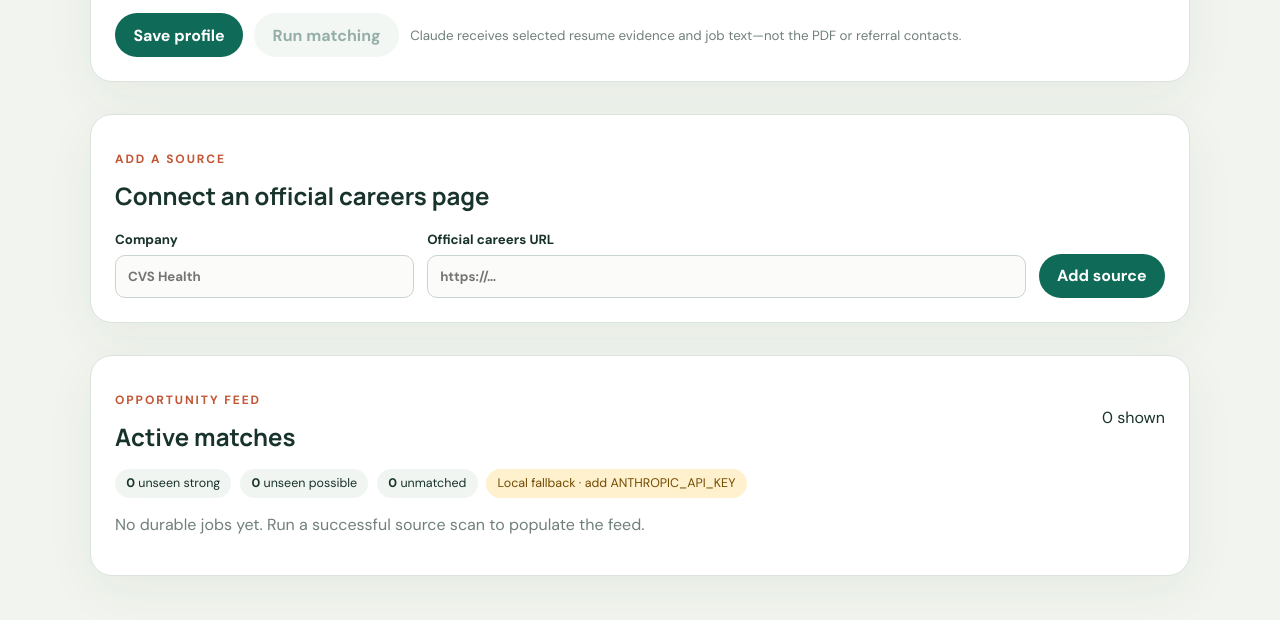
Test: shows API errors during onboarding
(page scrolled)
Type "Duplicate" into the field labelled "Company" at (265, 276), box [115,255,414,298]
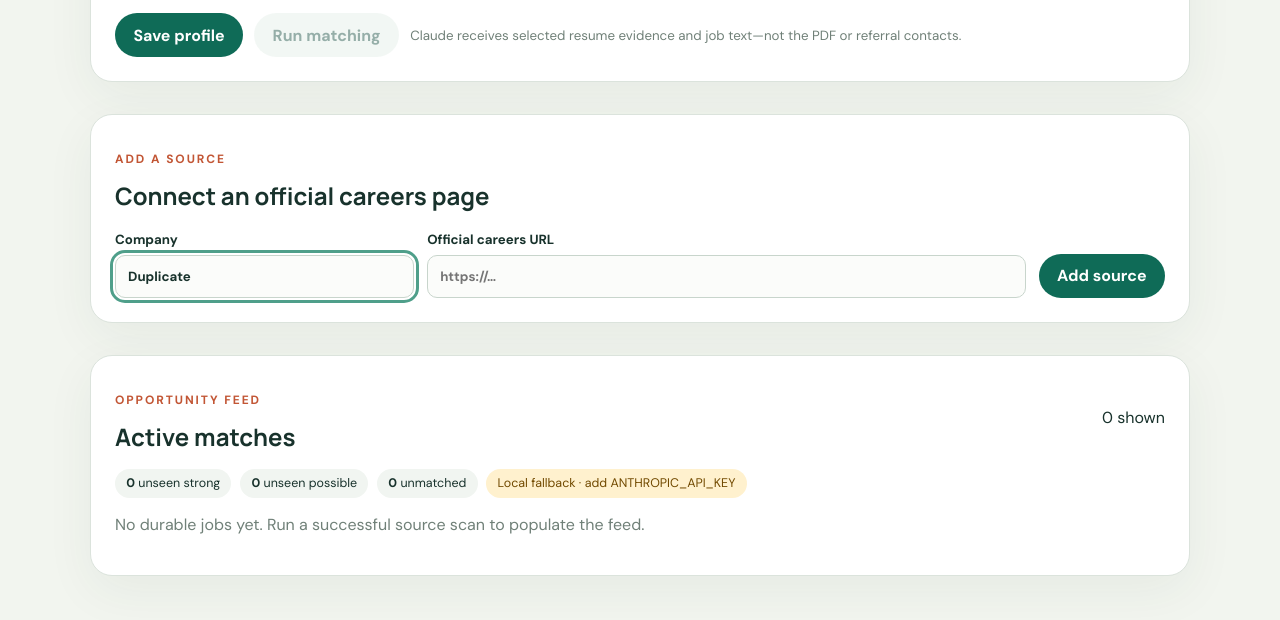
Type "https://example.com/jobs" into the field labelled "Official careers URL" at (726, 276), box [427,255,1026,298]
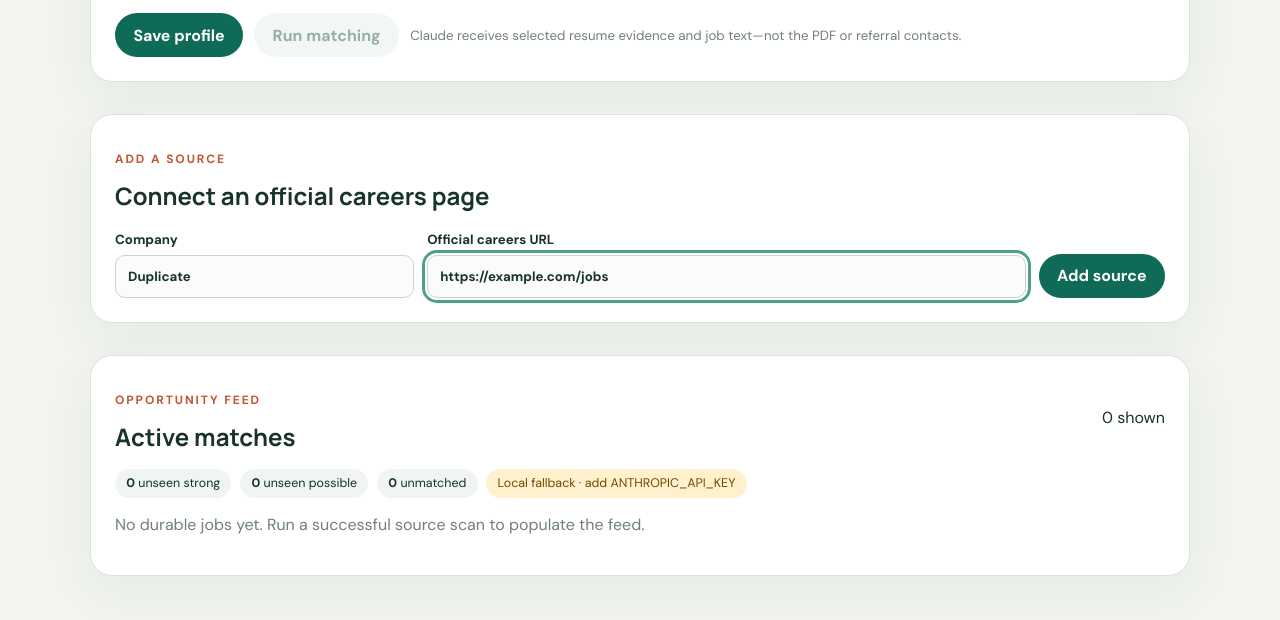
Click the button "Add source" at (1102, 276), box [1039,254,1165,298]
(page scrolled)
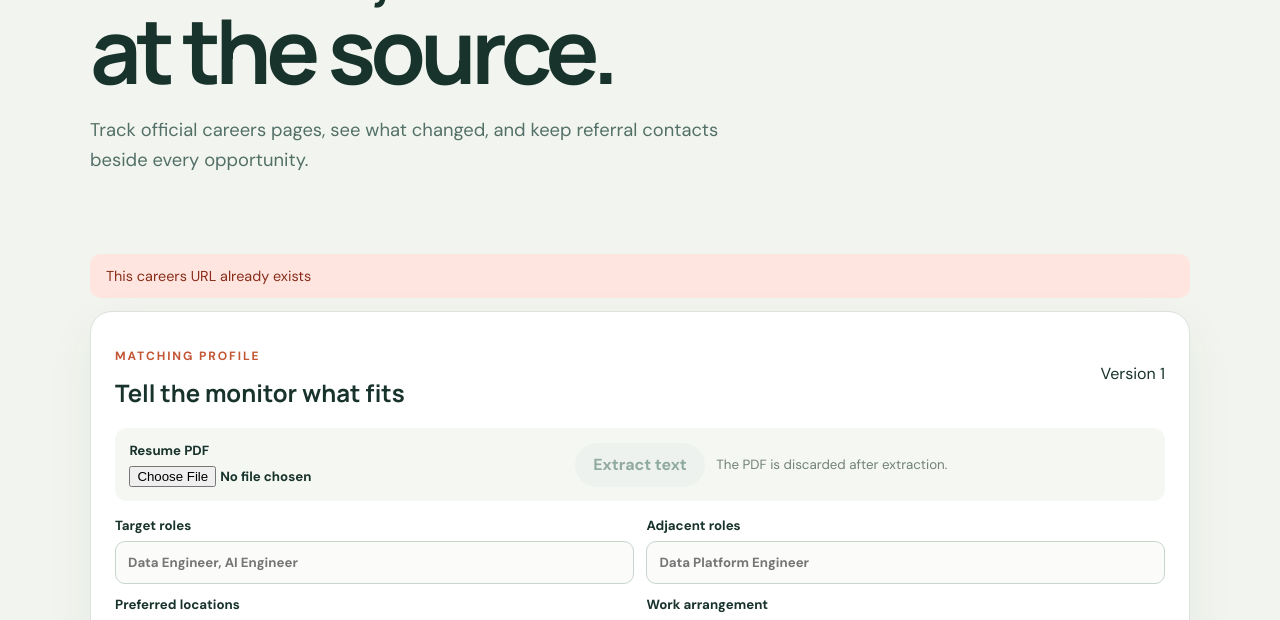
expect the message shows "already exists": met, box [106,267,311,285]
